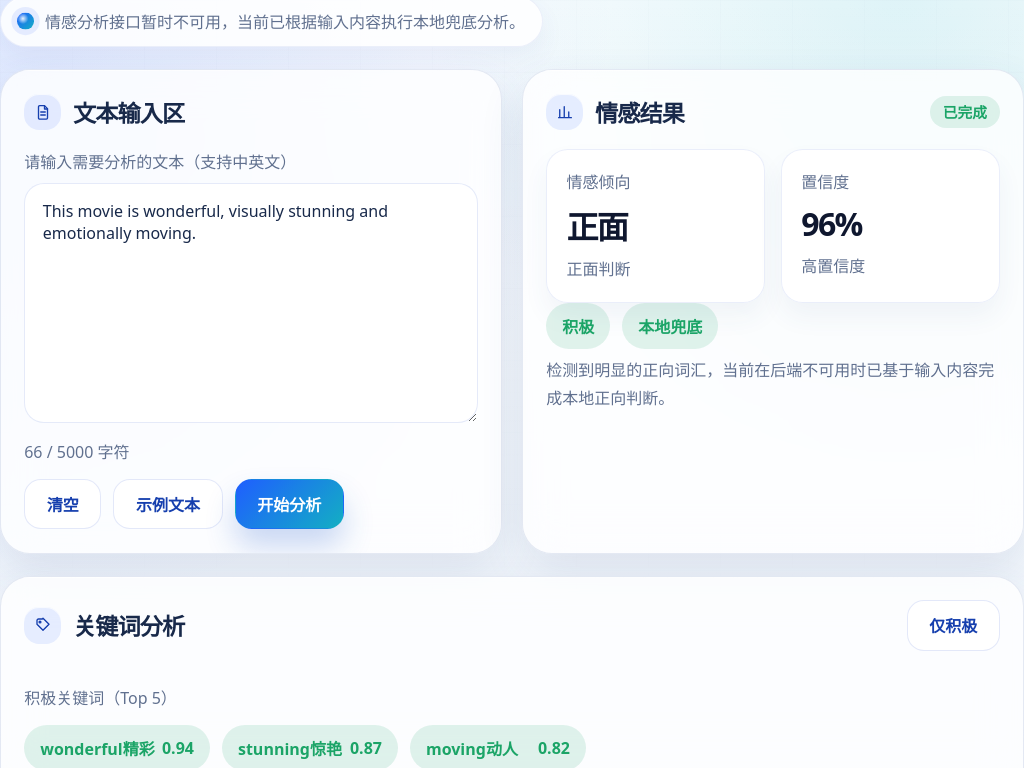
SentimentAnalysisPage › falls back to a local analysis based on the current input when the backend analyze request fails
Replace the text in the text box with "This sequel is a flop and feels copied." at [251, 303], box left=24, top=183, right=478, bottom=423
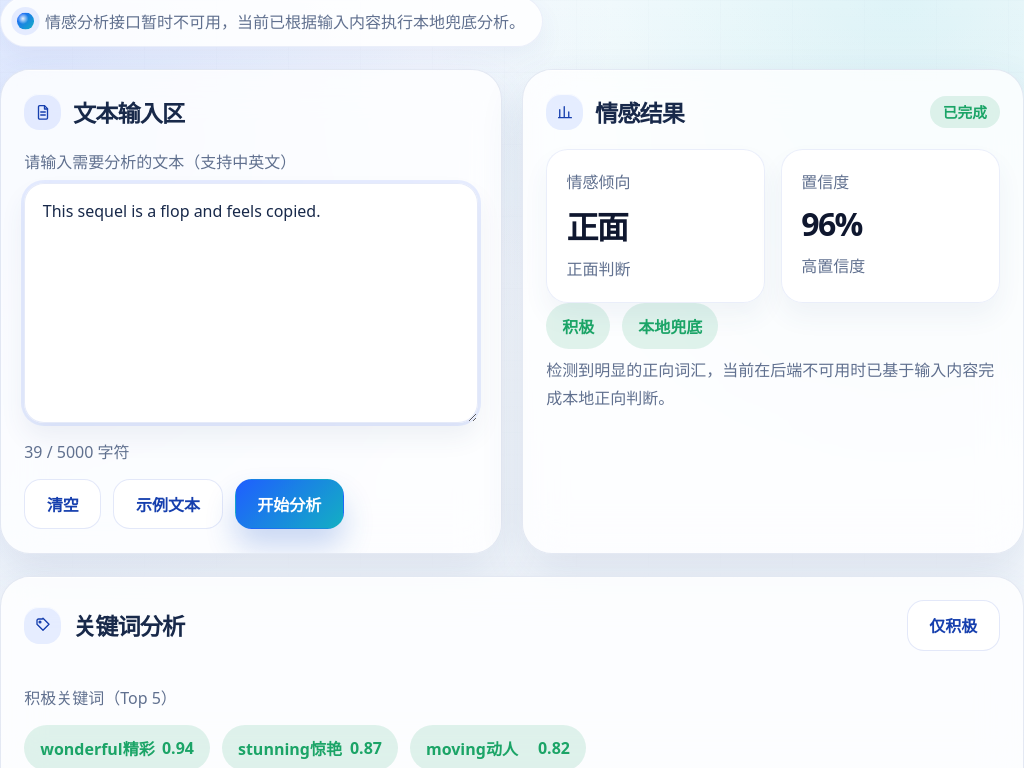
Click the button "开始分析" at [289, 504], box left=235, top=479, right=344, bottom=530
(page scrolled)
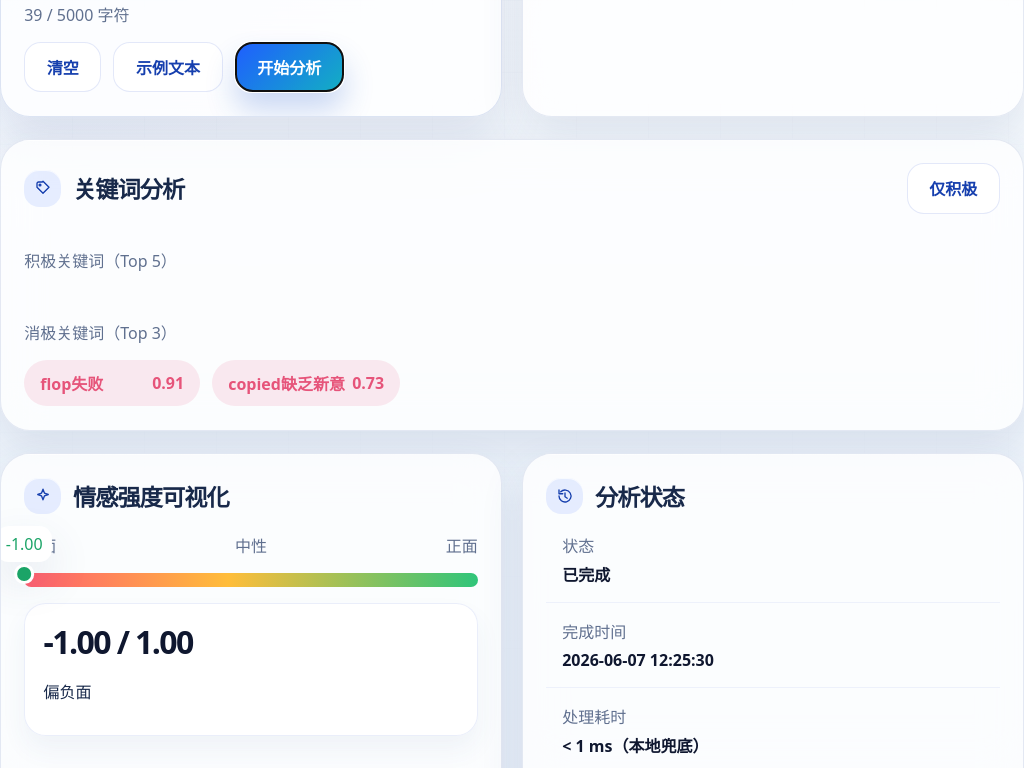
Expected: the text "失败" is shown, left=71, top=373, right=103, bottom=395
Expected: the text "缺乏新意" is shown, left=281, top=373, right=345, bottom=395
